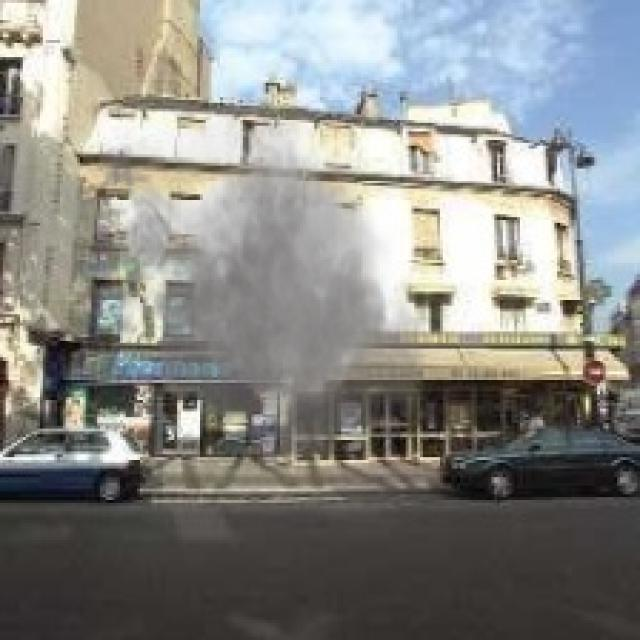Smoke: (88, 77, 440, 486)
